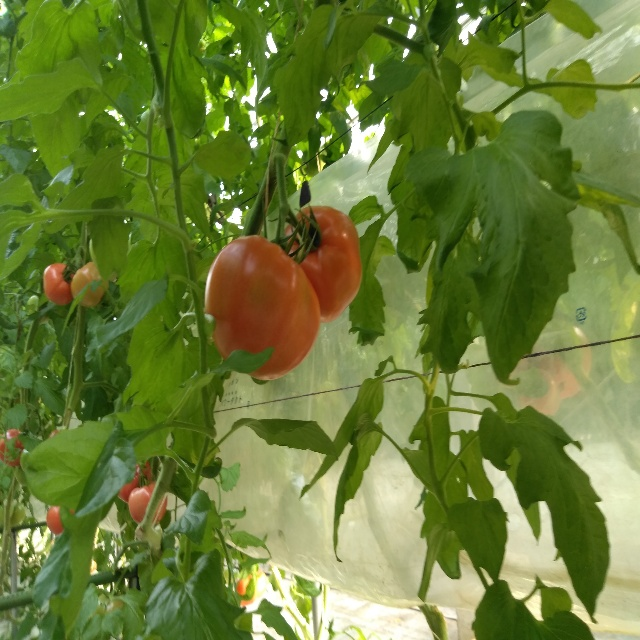b_fully_ripened: (277, 205, 363, 323), (117, 459, 152, 504), (43, 263, 74, 305)
b_half_ripened: (204, 235, 321, 381), (70, 262, 108, 309), (128, 482, 167, 524)
